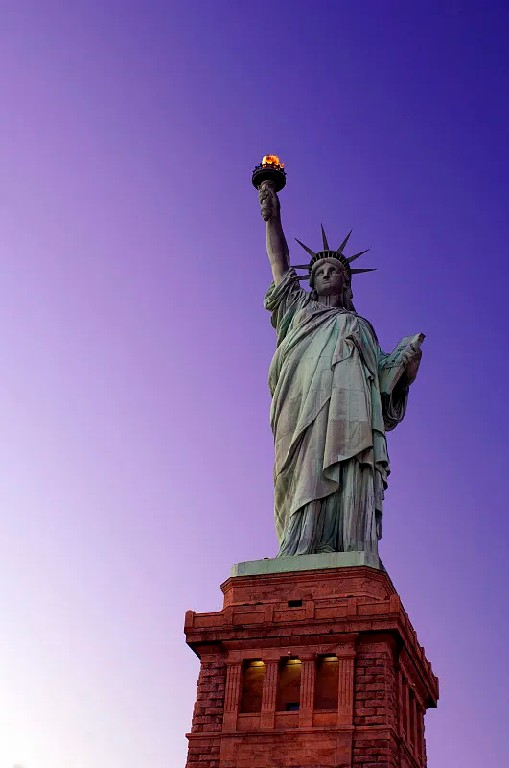SL: (183, 154, 440, 768)
